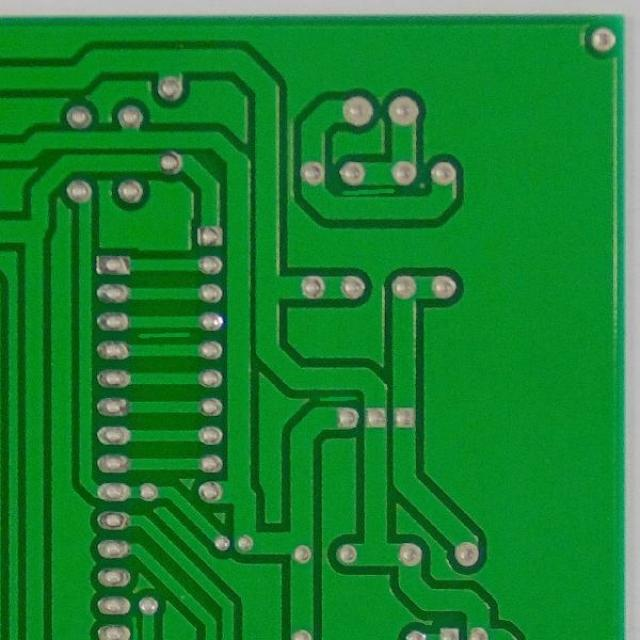spurious_copper: (136, 324, 198, 348), (340, 180, 399, 203), (312, 388, 360, 406), (124, 614, 145, 639)
